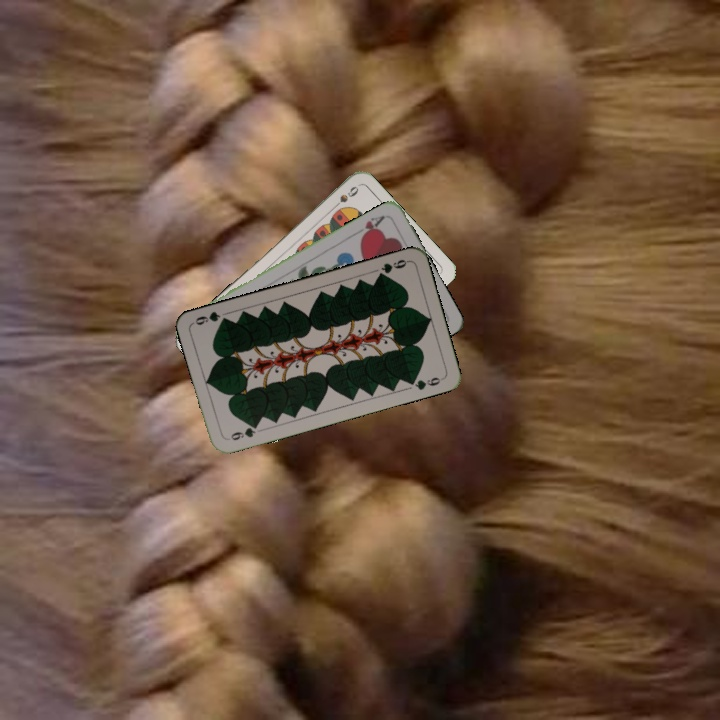G9: (374, 255, 411, 280), (224, 420, 261, 443)
HA: (352, 211, 388, 242)
S9: (327, 182, 361, 213)
